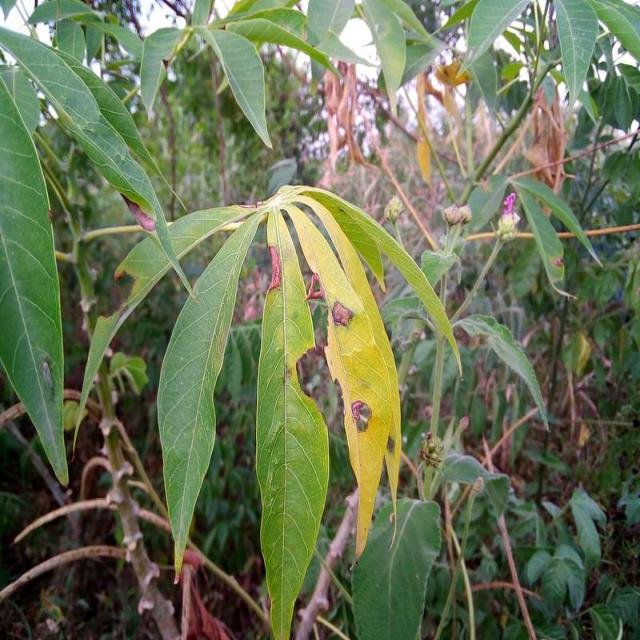cassava leaf: (155, 202, 266, 584), (254, 207, 330, 638), (0, 64, 69, 487)
